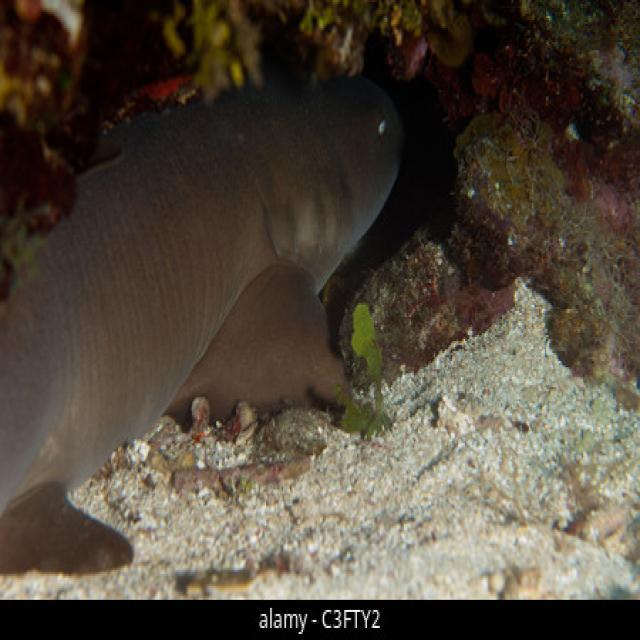Shark: (0, 66, 428, 576)
